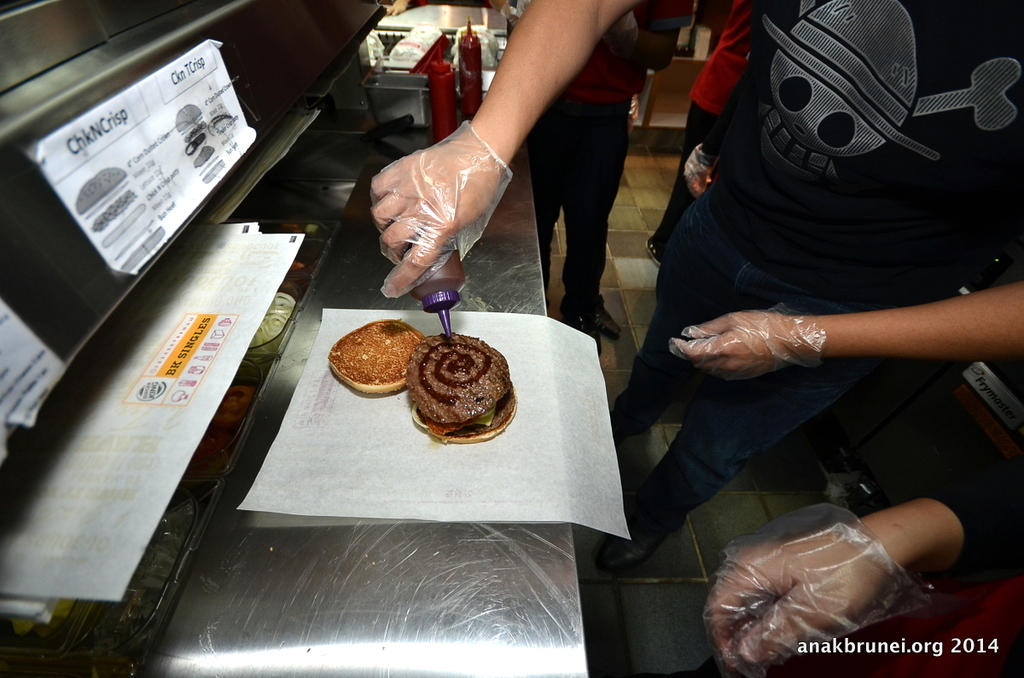Footwear: (591, 501, 685, 577), (556, 290, 614, 344), (596, 293, 616, 340), (614, 412, 634, 445)
